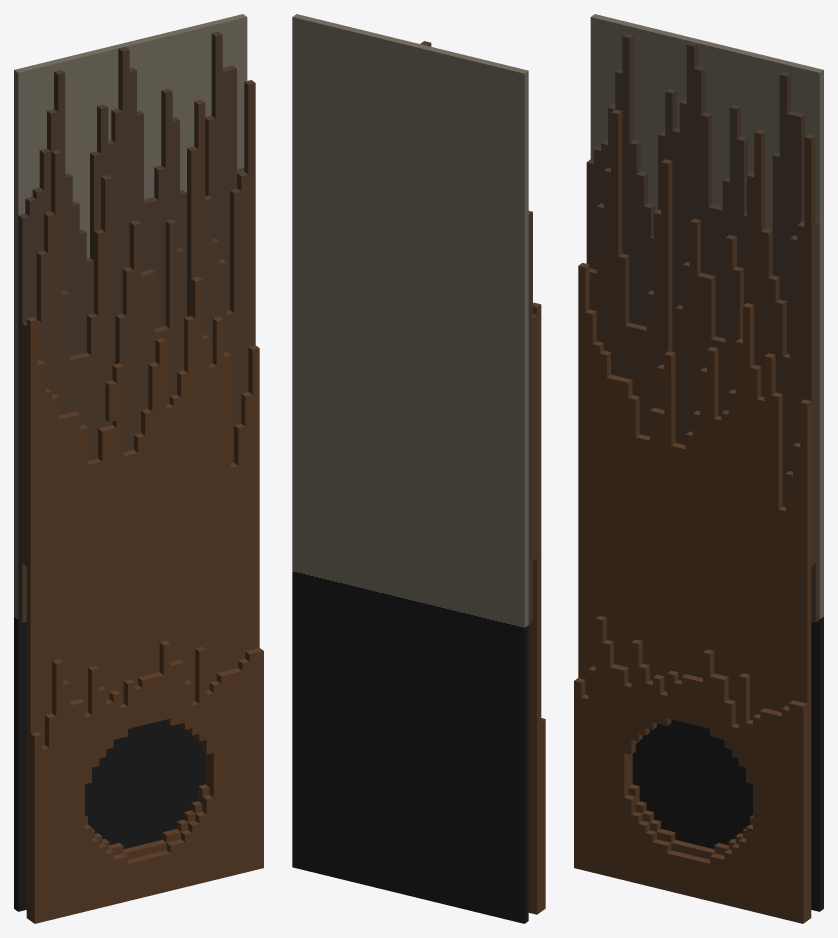
The model's file is scene_cave.glb.
The picture shows the model from 3 angles, left to right: view 1: azimuth 30°, elevation 25°; view 2: azimuth 150°, elevation 25°; view 3: azimuth 330°, elevation 25°; orthographic projection.
Visible parts, largest first — view 1: scene_cave_3, scene_cave_1, scene_cave_4, scene_cave_5, scene_cave_2; view 2: scene_cave_4, scene_cave_3, scene_cave_2, scene_cave_5, scene_cave_1; view 3: scene_cave_3, scene_cave_1, scene_cave_4, scene_cave_5, scene_cave_2.
Part boxes in pixels (<box>): scene_cave_3: <box>26,277,259,920</box>; scene_cave_1: <box>30,640,263,923</box>; scene_cave_4: <box>14,14,247,911</box>; scene_cave_5: <box>22,80,255,565</box>; scene_cave_2: <box>18,31,244,622</box>; scene_cave_4: <box>292,14,528,923</box>; scene_cave_3: <box>528,302,541,914</box>; scene_cave_2: <box>420,41,532,624</box>; scene_cave_5: <box>533,314,536,560</box>; scene_cave_1: <box>541,718,545,911</box>; scene_cave_3: <box>578,263,811,920</box>; scene_cave_1: <box>574,615,807,923</box>; scene_cave_4: <box>590,14,823,911</box>; scene_cave_5: <box>589,109,815,565</box>; scene_cave_2: <box>586,33,819,622</box>.
Bounding box in the file's own units: 3.2 × 11.2 × 0.5.
1 material, 1 textured.
